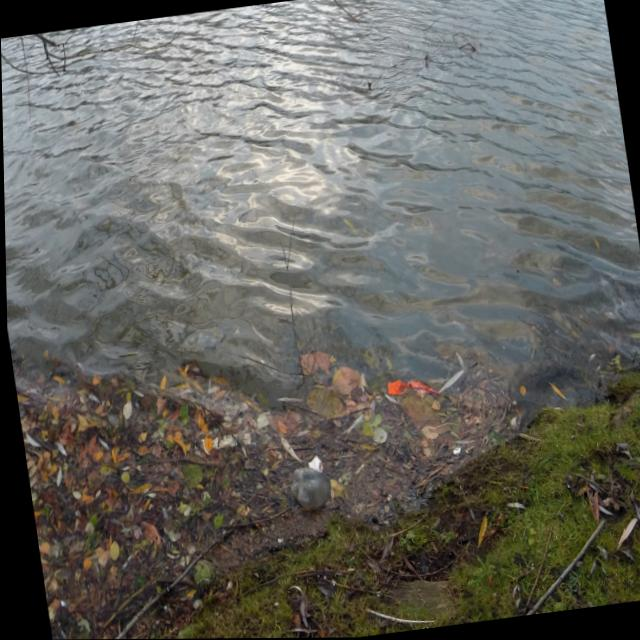Plastic: (280, 456, 339, 522)
